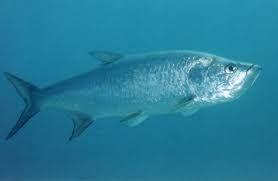Indo-Pacific Tarpon: (6, 48, 264, 143)
